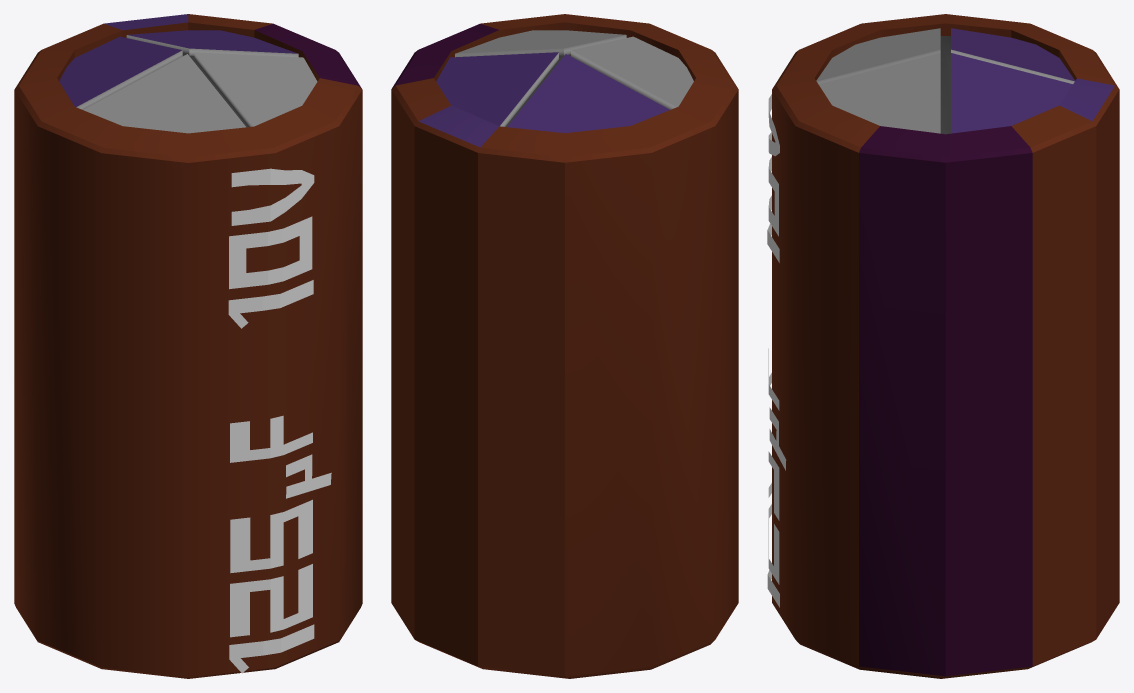
Rendered from zepsuty_kondensator_brazowy.fbx.
3 views of the same model, side by side, from view 1: azimuth 30°, elevation 25°; view 2: azimuth 150°, elevation 25°; view 3: azimuth 270°, elevation 25° (orthographic).
Parts seen in each view (by area): view 1: zepsuty_kondensator_brazowy; view 2: zepsuty_kondensator_brazowy; view 3: zepsuty_kondensator_brazowy.
Part boxes in pixels (left/top/right/bottom): zepsuty_kondensator_brazowy: left=14, top=14, right=362, bottom=678; zepsuty_kondensator_brazowy: left=391, top=14, right=738, bottom=678; zepsuty_kondensator_brazowy: left=767, top=14, right=1119, bottom=678.
Size of the model in its own units: 200 by 353 by 203.
